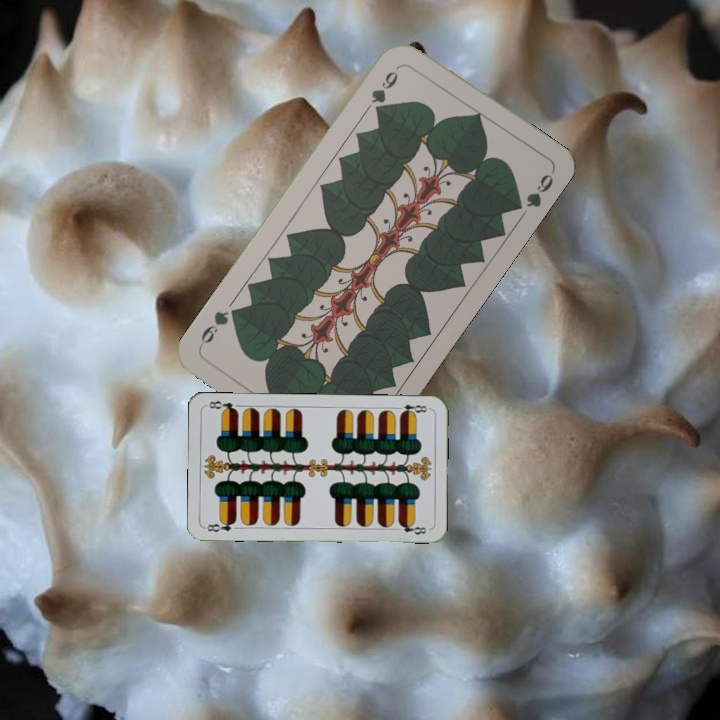E8: (392, 400, 432, 418), (202, 516, 238, 534)
G9: (367, 67, 401, 117)
